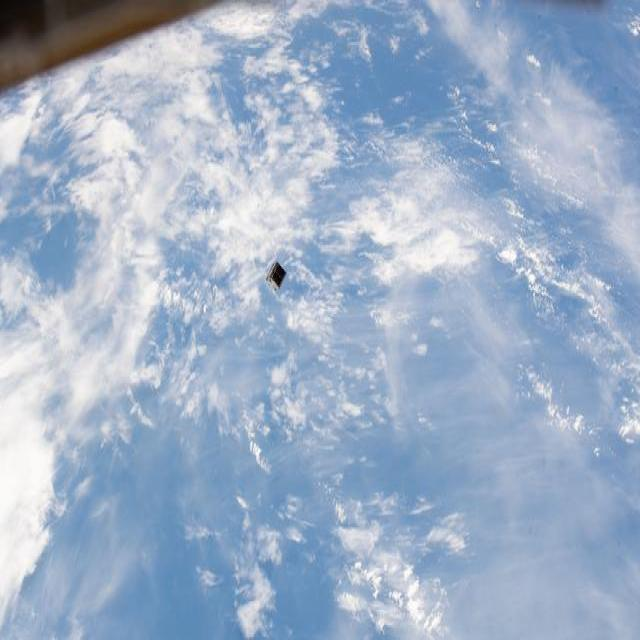medium_debris: (266, 261, 286, 290)
